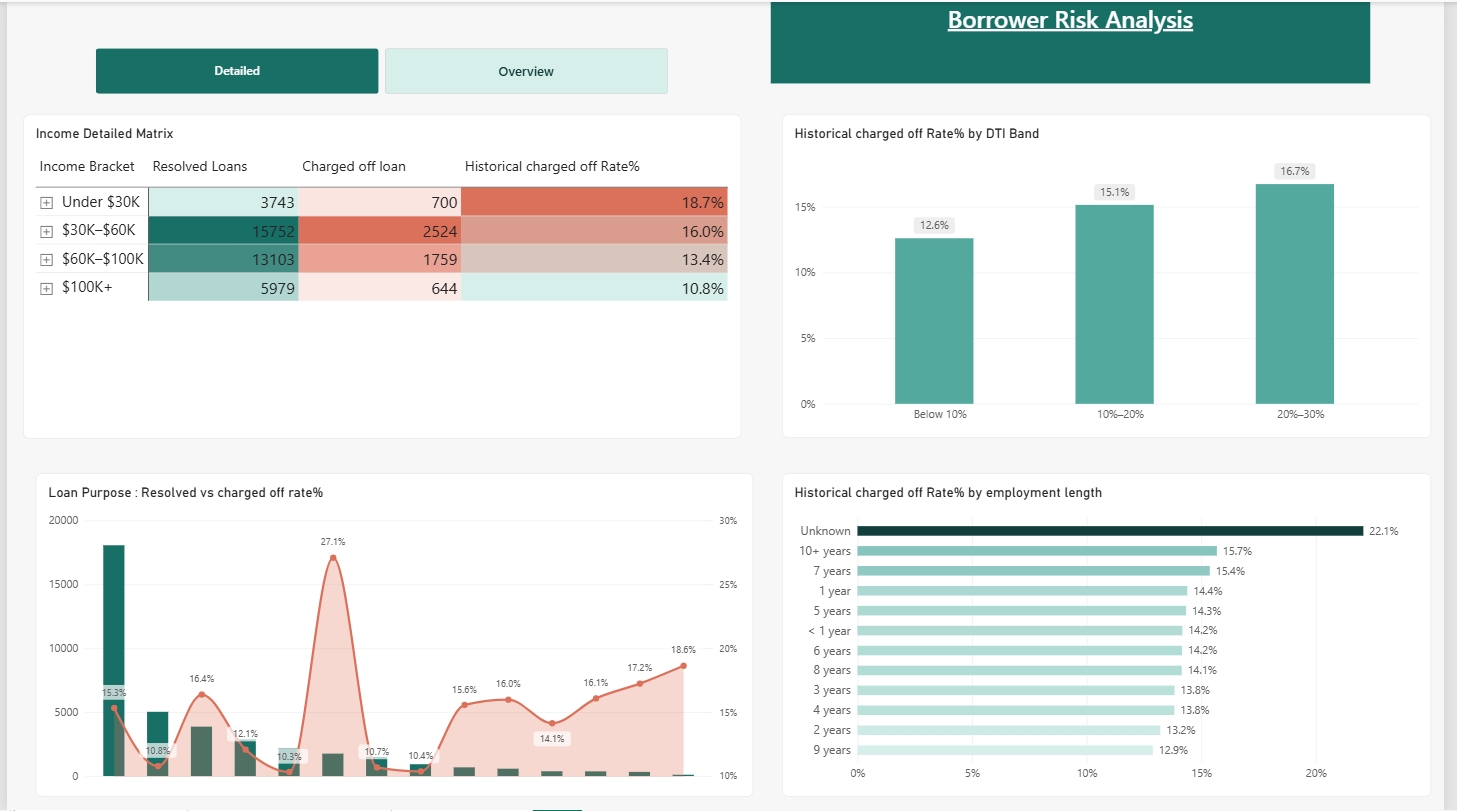

This screenshot's page, from the dashboard's own definition file:
{"tool":"powerbi","page":{"name":"Borrower Risk Analysis","canvas":[1920,1080],"ordinal":1},"visuals":[{"type":"pivotTable","title":"Income Detailed Matrix","fields":{"Rows":["Loan_table.Income Bracket","Loan_table.term"],"Values":["Loan_table.Resolved Loans","Loan_table.Charged off loan","Loan_table.Historical charged off Rate%"]},"box":[22.4,150.1,959.2,433],"z":1},{"type":"bookmarkNavigator","box":[118.9,61.1,764.3,61.1],"z":2},{"type":"lineClusteredColumnComboChart","title":"Loan Purpose : Resolved vs charged off rate%","fields":{"Category":["Loan_table.purpose"],"Y":["Loan_table.Resolved Loans"],"Y2":["Loan_table.Historical charged off Rate%"]},"box":[38.1,629.4,958.7,432.3],"z":3},{"type":"clusteredColumnChart","title":"Historical charged off Rate% by DTI Band","fields":{"Category":["Loan_table.DTI Band"],"Y":["Loan_table.Historical charged off Rate%"]},"box":[1034.8,150.1,866.8,432.3],"z":4},{"type":"clusteredBarChart","title":"Historical charged off Rate% by employment length","fields":{"Category":["Loan_table.emp_length"],"Y":["Loan_table.Historical charged off Rate%"]},"box":[1034.8,629.4,866.8,432.3],"z":5},{"type":"textbox","title":"Borrower Risk Analysis","box":[1020.9,0,800.7,109.1],"z":6}]}

Visuals, with their boxes in screenshot pixels (x1, y1, x2, y2), scaled from the page's 1920x1080 canvas onto the 1457x811 screenshot:
"Income Detailed Matrix" pivotTable: 17 113 745 438
bookmarkNavigator: 90 46 670 92
"Loan Purpose : Resolved vs charged off rate%" lineClusteredColumnComboChart: 29 473 756 797
"Historical charged off Rate% by DTI Band" clusteredColumnChart: 785 113 1443 437
"Historical charged off Rate% by employment length" clusteredBarChart: 785 473 1443 797
"Borrower Risk Analysis" textbox: 775 0 1382 82
